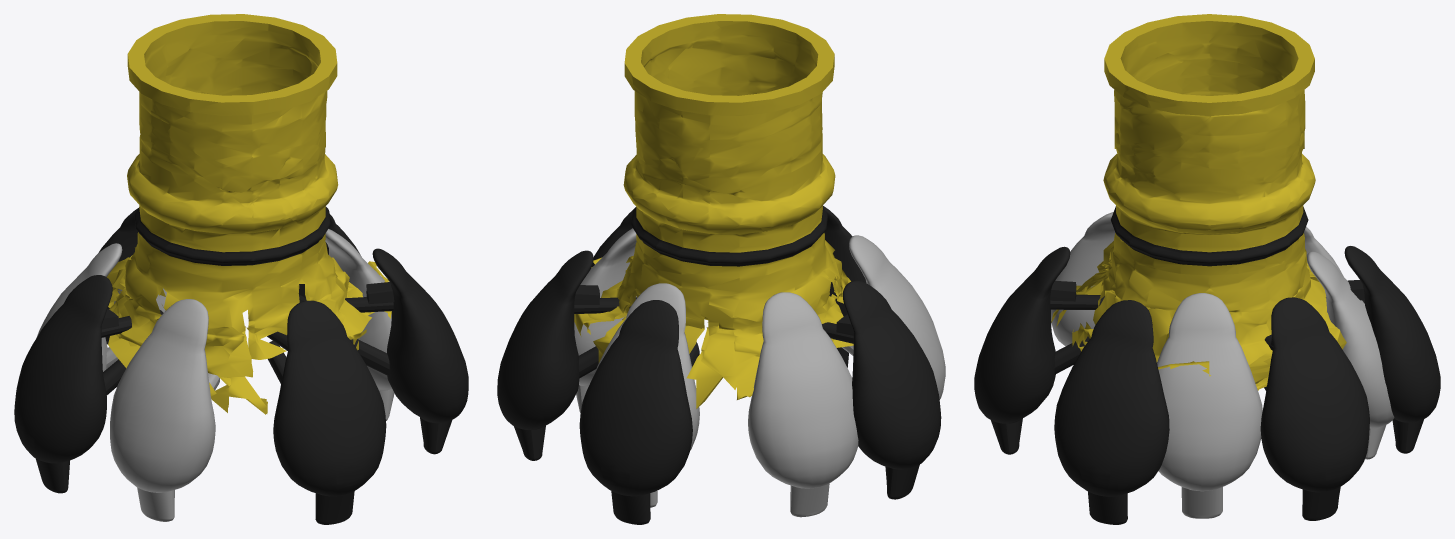
The model's file is Lata - Teste.fbx.
The picture shows the model from 3 angles, left to right: view 1: azimuth 30°, elevation 25°; view 2: azimuth 150°, elevation 25°; view 3: azimuth 270°, elevation 25°; orthographic projection.
Visible parts, largest first — view 1: pPipe4, pSphere3, pasted__pasted__pasted__pSphere1, pSphere7, pSphere4, pasted__pasted__pSphere1, pasted__pasted__pasted__pasted__pSphere1, pSphere6; view 2: pPipe4, pSphere6, pasted__pasted__pasted__pasted__pSphere1, pSphere7, pSphere5, pasted__pasted__pasted__pSphere1, pasted__pasted__pSphere1, pasted__pSphere1, pSphere3, pSphere4; view 3: pPipe4, pSphere4, pSphere5, pasted__pasted__pSphere1, pSphere3, pSphere6, pasted__pSphere1, pasted__pasted__pasted__pSphere1.
Boxes of the visible parts, x1,y1,x2,y2 form: pPipe4: (107,14,391,414); pSphere3: (267,300,386,524); pasted__pasted__pasted__pSphere1: (110,299,219,521); pSphere7: (14,275,163,493); pSphere4: (345,248,468,454); pasted__pasted__pSphere1: (325,229,394,420); pasted__pasted__pasted__pasted__pSphere1: (36,243,122,371); pSphere6: (98,208,138,344); pPipe4: (574,14,853,408); pSphere6: (579,300,699,524); pasted__pasted__pasted__pasted__pSphere1: (748,292,858,517); pSphere7: (822,280,941,499); pSphere5: (497,250,636,460); pasted__pasted__pasted__pSphere1: (842,235,945,399); pasted__pasted__pSphere1: (574,228,636,412); pasted__pSphere1: (591,283,699,507); pSphere3: (823,206,866,367); pSphere4: (591,209,633,266); pPipe4: (1051,14,1346,390); pSphere4: (1054,300,1169,524); pSphere5: (1260,297,1369,520); pasted__pasted__pSphere1: (1157,293,1262,518); pSphere3: (974,246,1104,454); pSphere6: (1326,246,1440,453); pasted__pSphere1: (1307,251,1394,459); pasted__pasted__pasted__pSphere1: (1051,212,1115,346).
Size of the model in its own units: 6.34 by 6.07 by 6.59.
